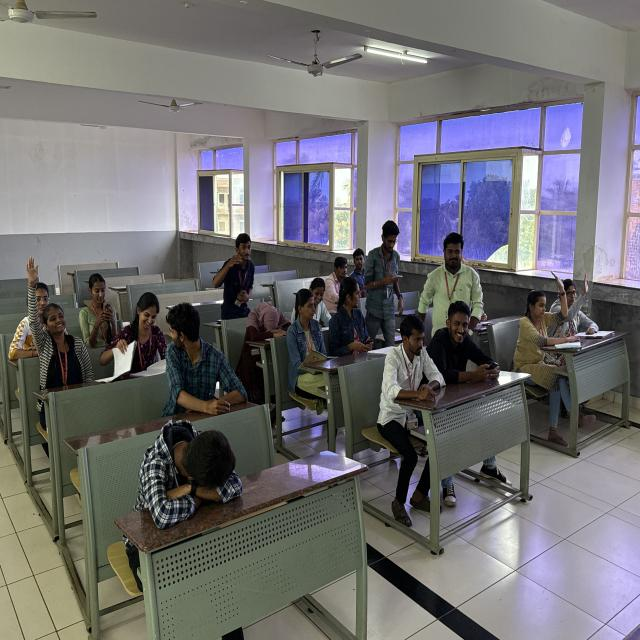Hand Rising: (19, 249, 93, 386), (519, 258, 571, 364), (554, 263, 594, 344)
Reading: (282, 286, 362, 390), (111, 288, 175, 379)
Sleeping: (125, 414, 256, 518), (238, 297, 299, 367)
Using Phone: (430, 298, 510, 388), (357, 218, 414, 328), (72, 265, 126, 350), (327, 274, 378, 364)
